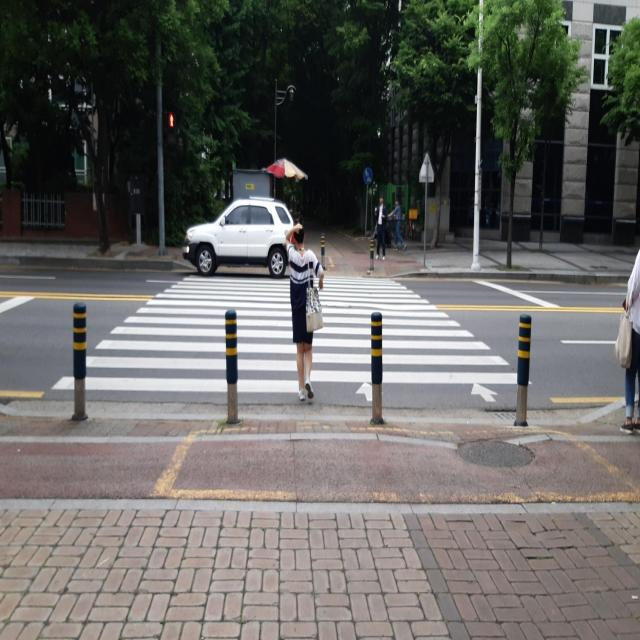빨간불: (167, 112, 176, 150)
횡단보도: (50, 271, 533, 404)
